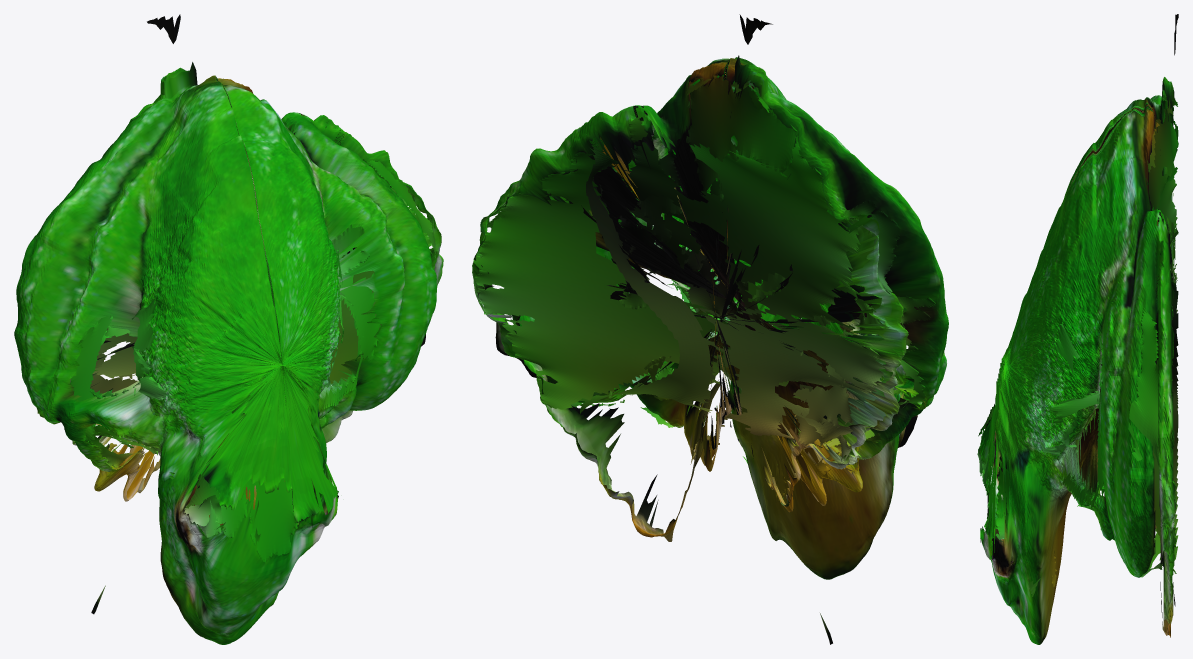
File: guess_mesh.glb
The picture shows the model from 3 angles, left to right: view 1: azimuth 30°, elevation 25°; view 2: azimuth 150°, elevation 25°; view 3: azimuth 270°, elevation 25°; orthographic projection. The views are drawn at different scales.
Parts seen in each view (by area): view 1: ipn, fill; view 2: fill, ipn; view 3: ipn, fill.
Part boxes in pixels (left/top/right/bottom): ipn: left=14, top=14, right=443, bottom=644; fill: left=70, top=94, right=436, bottom=562; fill: left=473, top=74, right=935, bottom=500; ipn: left=472, top=14, right=948, bottom=644; ipn: left=979, top=14, right=1178, bottom=644; fill: left=977, top=97, right=1178, bottom=596.
Bounding box in the file's own units: 1.51 × 1.9 × 0.5585.
Materials: 2 (1 with a texture image).
